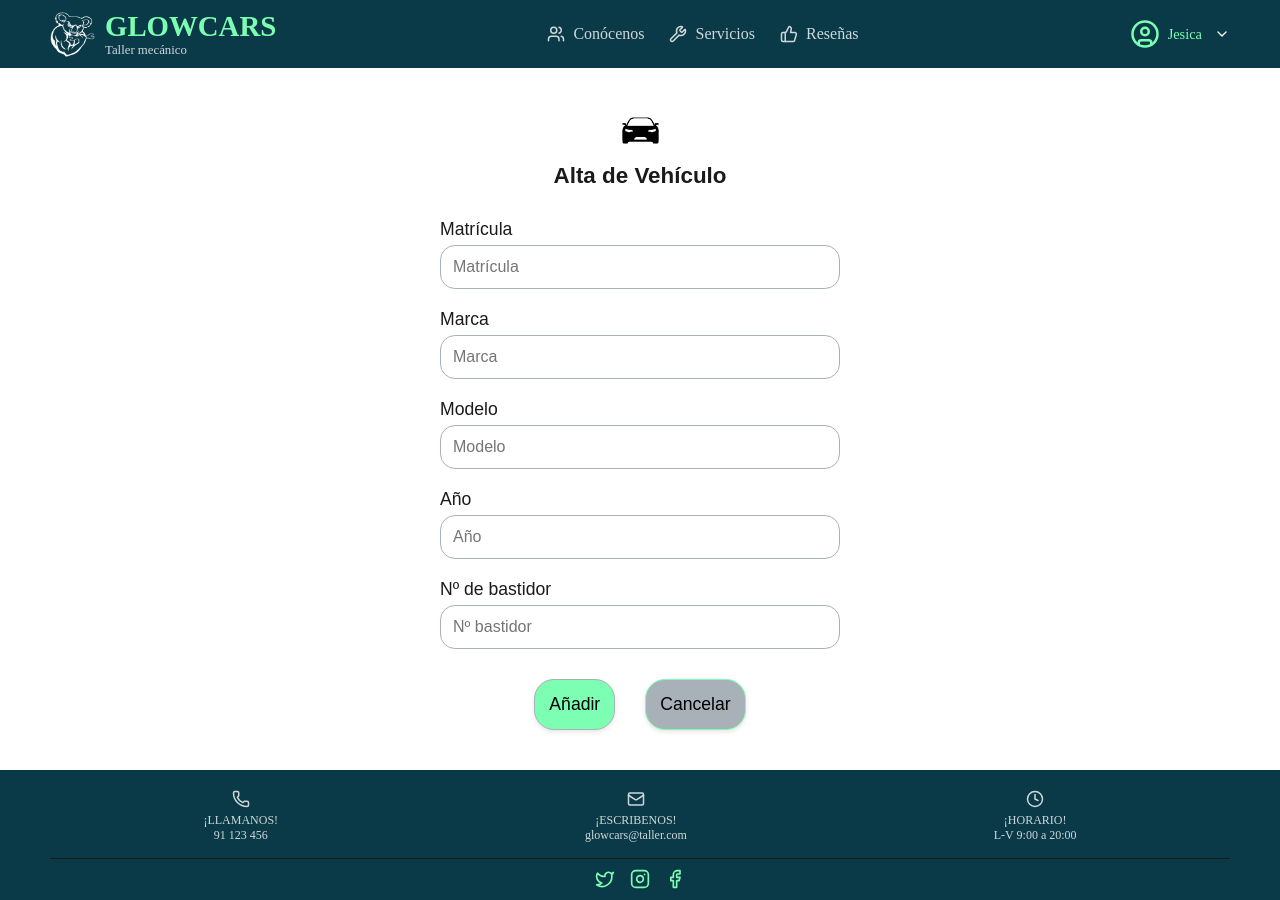
Test case: Pruebas Unitarias - Alta de Vehículo › debe mostrar el modal de confirmación cuando el registro es exitoso
// Rellenamos campos con una pequeña pausa para asegurar el estado
Type "1234ABC" into the field with placeholder "Matrícula" at (640, 267), box [440, 245, 840, 289]
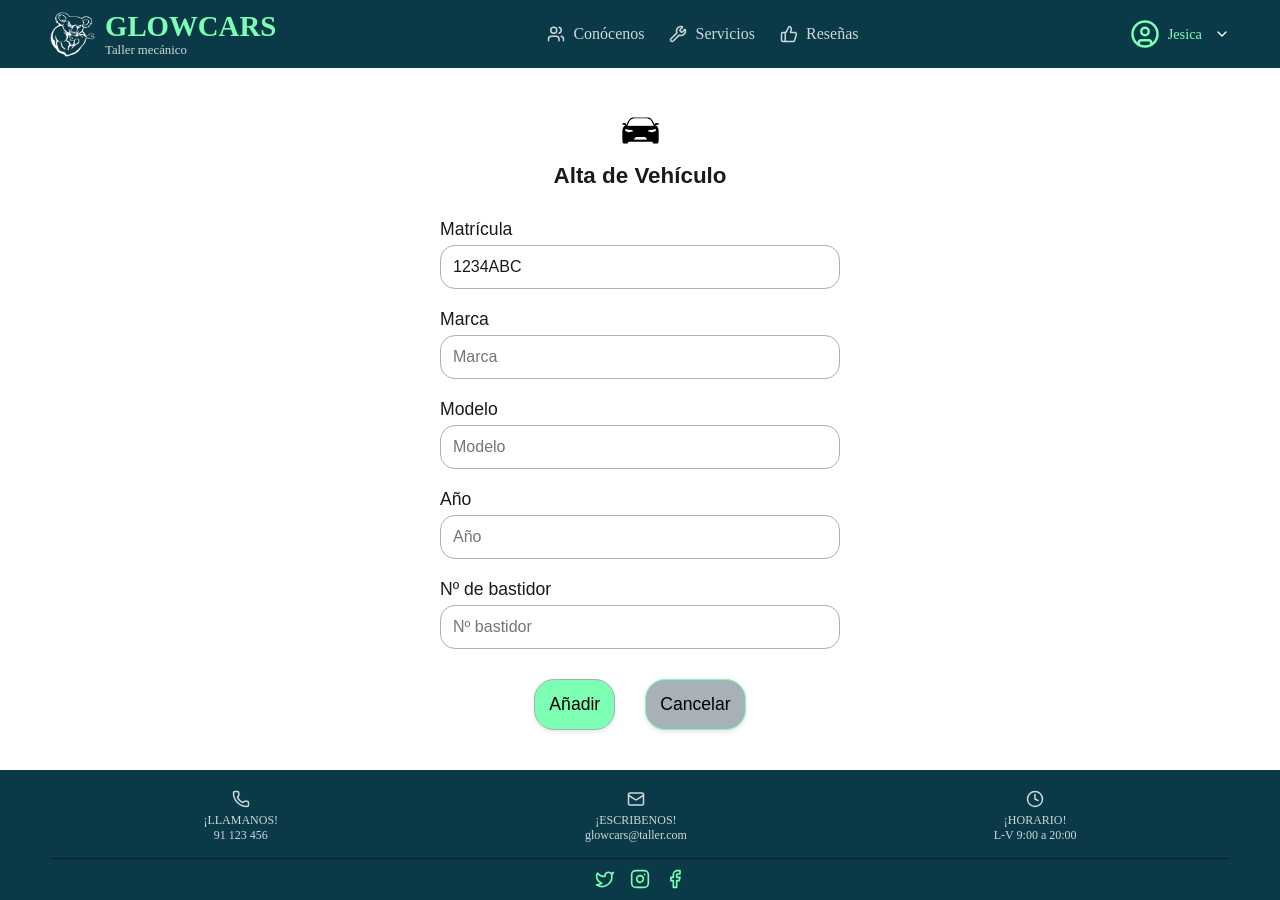
Type "Toyota" into the field with placeholder "Marca" at (640, 357), box [440, 335, 840, 379]
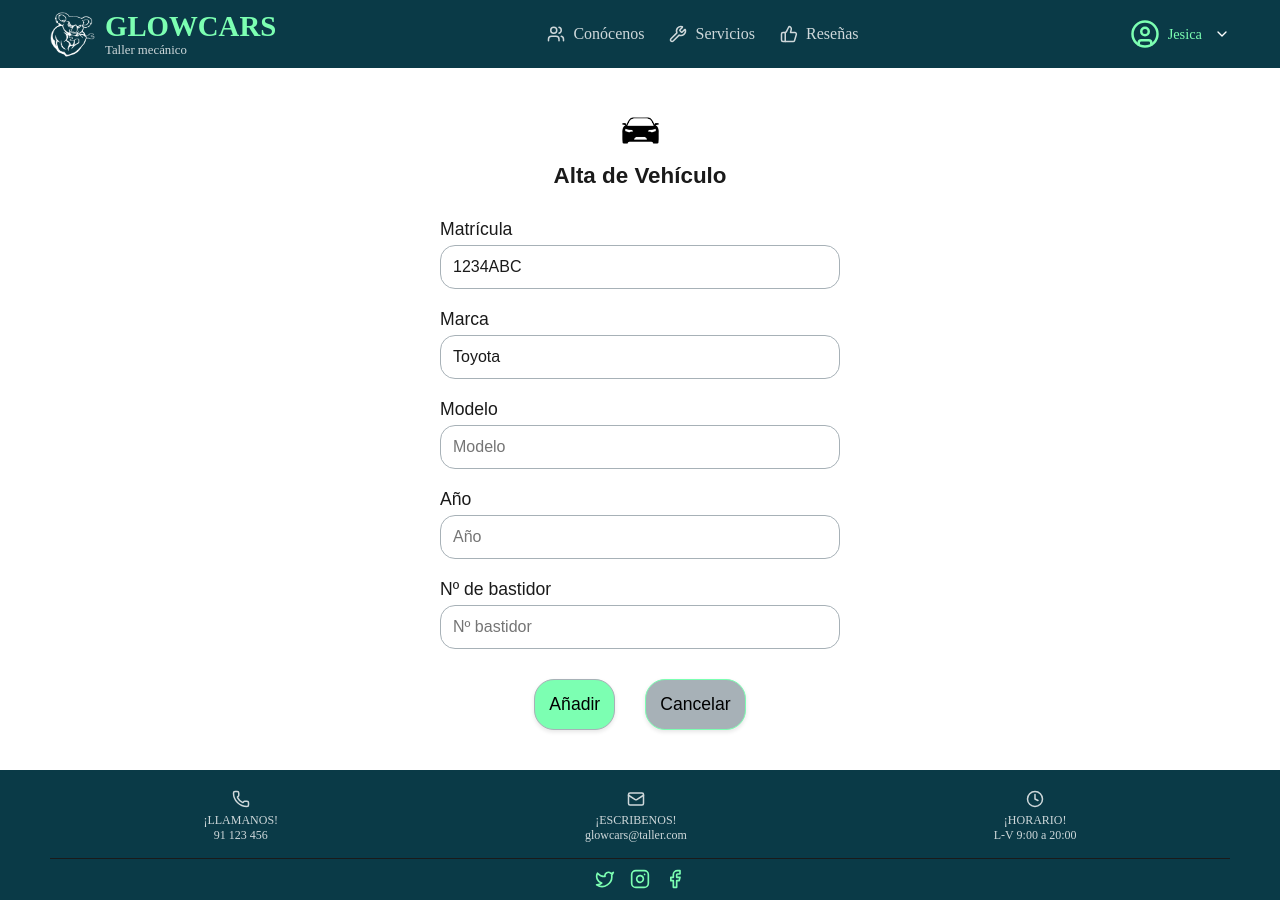
Type "Corolla" into the field with placeholder "Modelo" at (640, 447), box [440, 425, 840, 469]
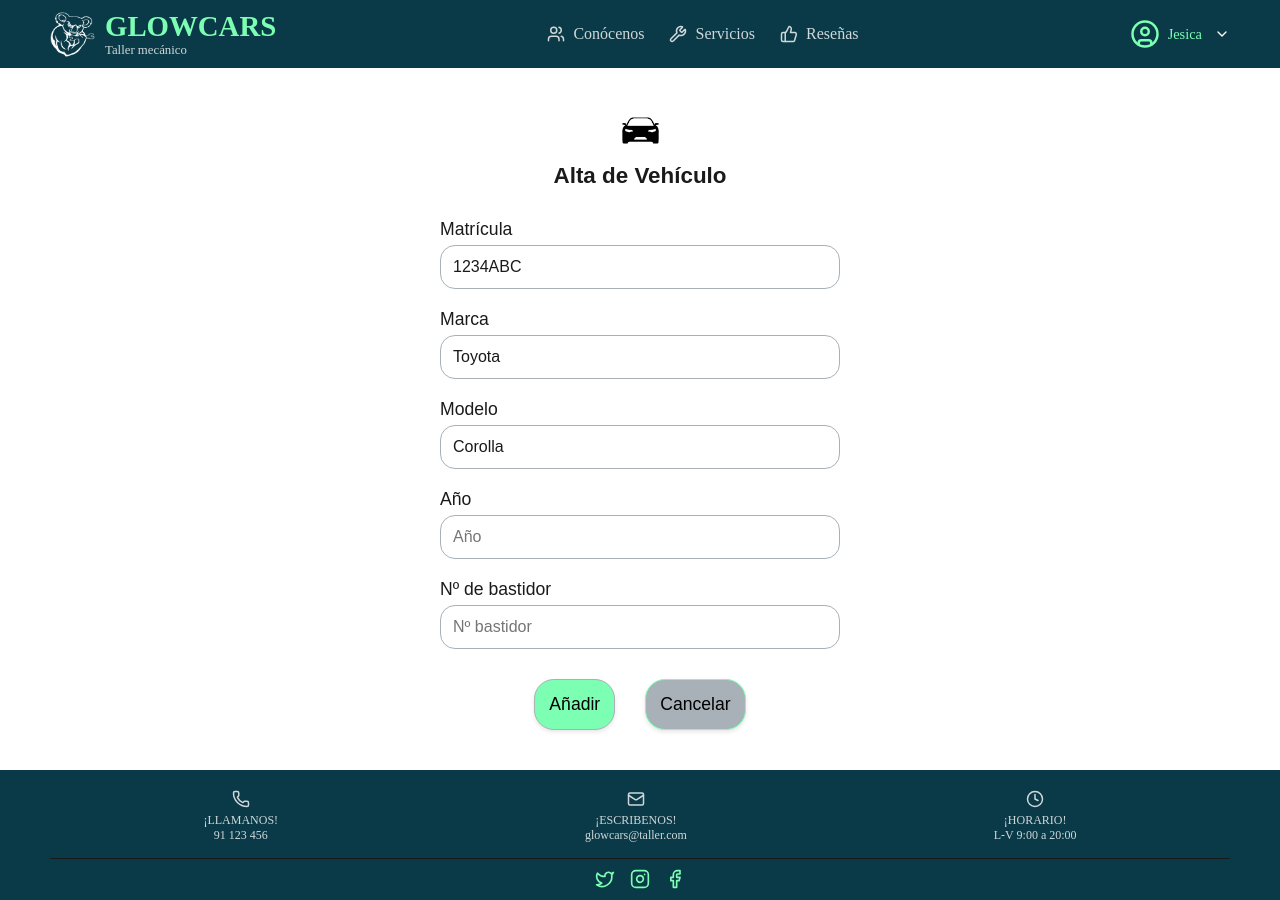
Type "2020" into the number field with placeholder "Año" at (640, 537), box [440, 515, 840, 559]
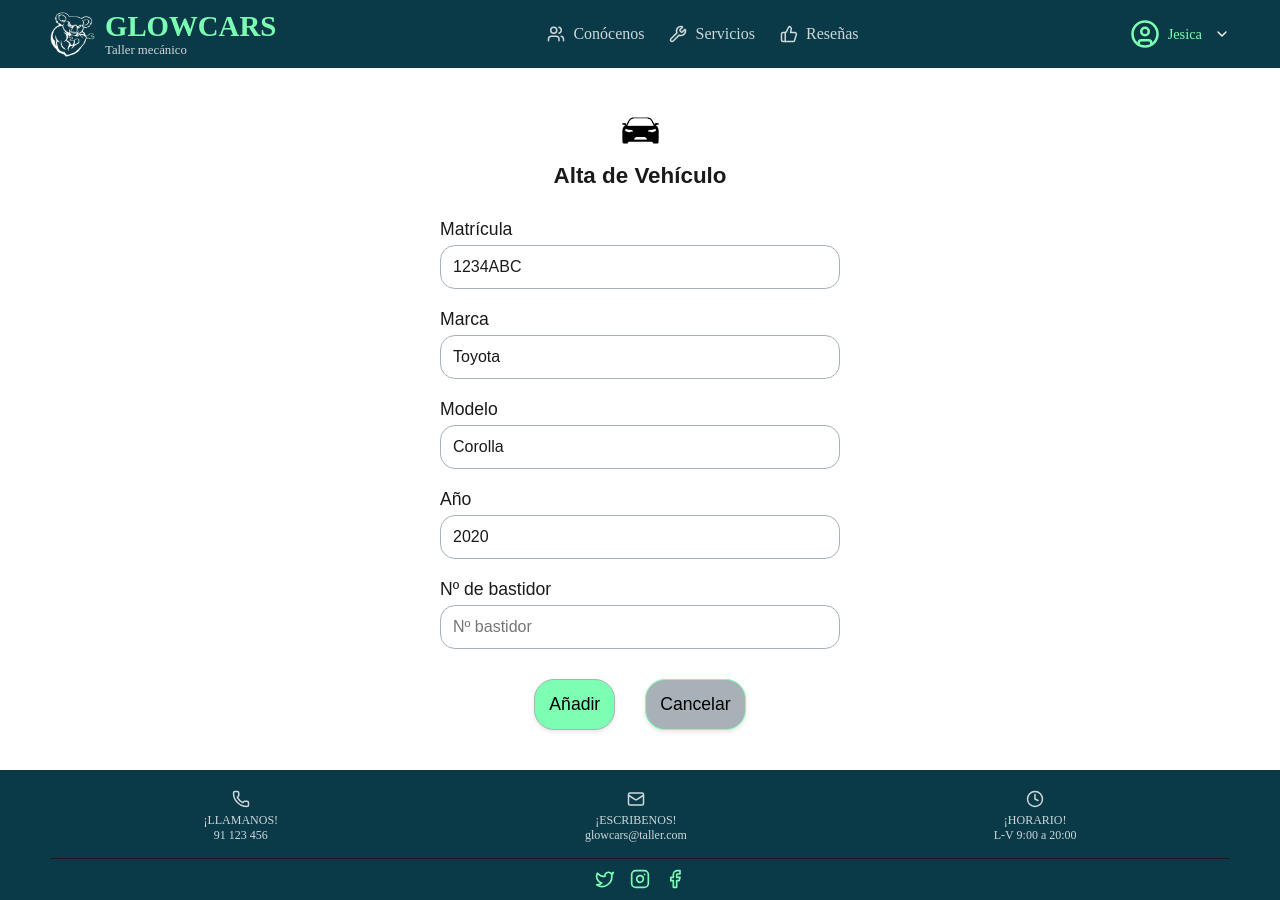
Type "BS12345" into the field with placeholder "Nº bastidor" at (640, 627), box [440, 605, 840, 649]
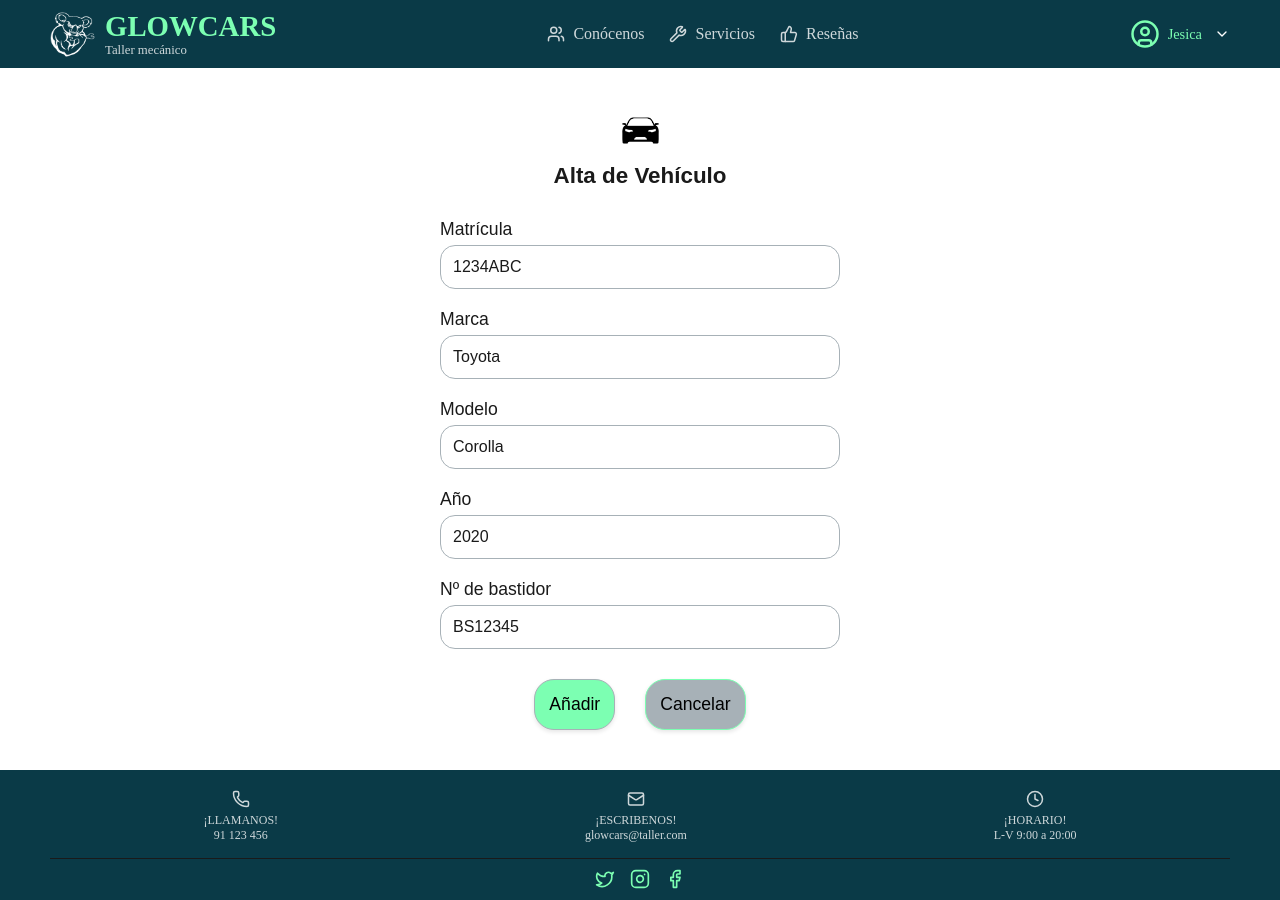
// Obtenemos el botón y lo pulsamos
Click the button "Añadir" at (575, 704), box [534, 679, 615, 730]
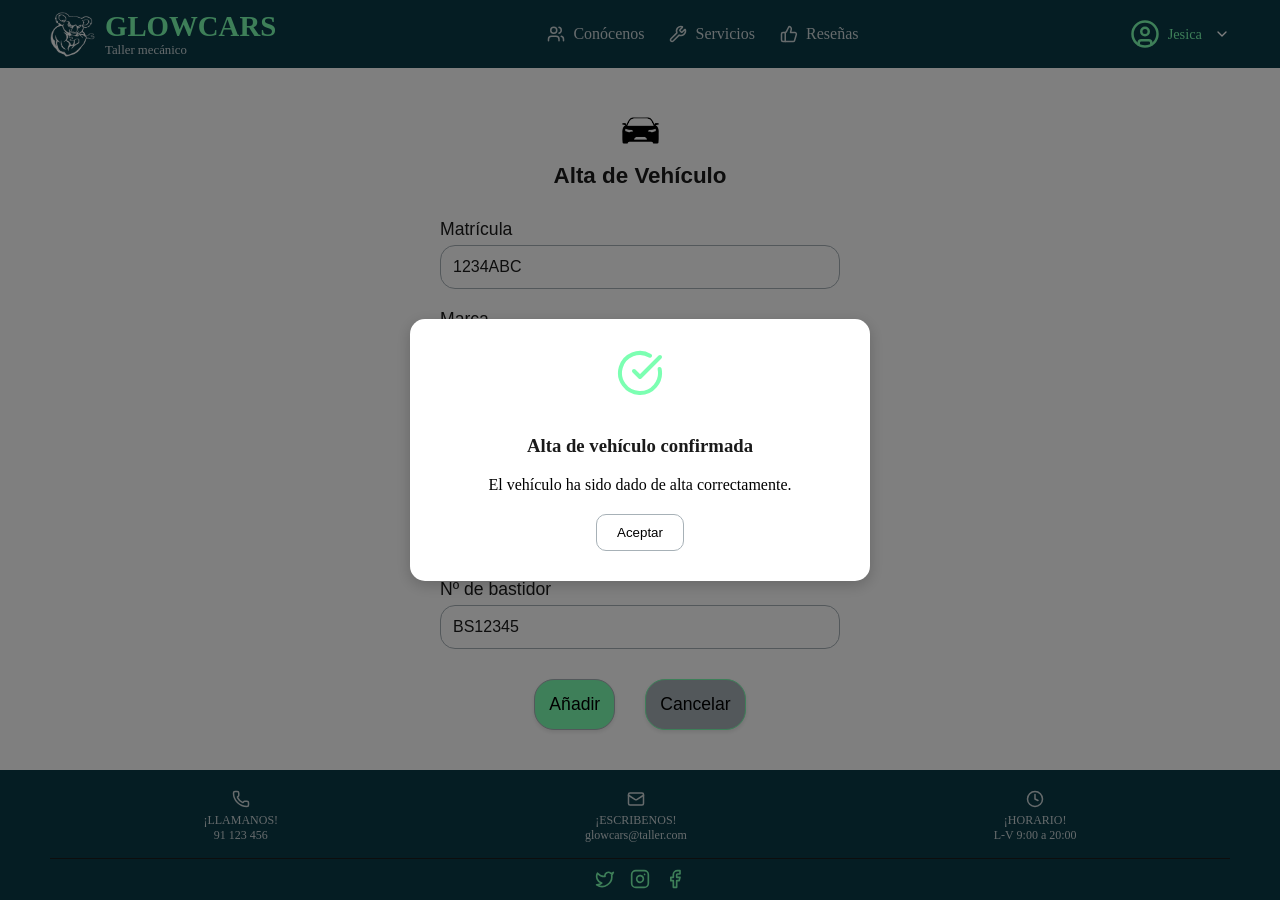
Check: the heading "Alta de vehículo confirmada" is shown, box [527, 435, 753, 456]
